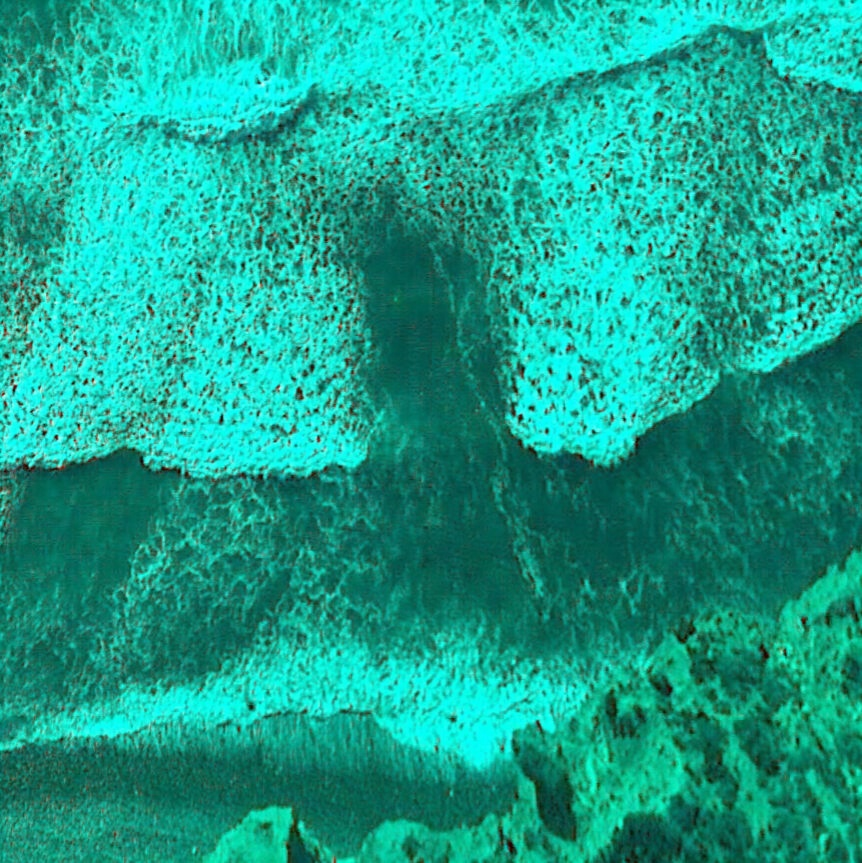rip_current: (252, 81, 597, 659)
